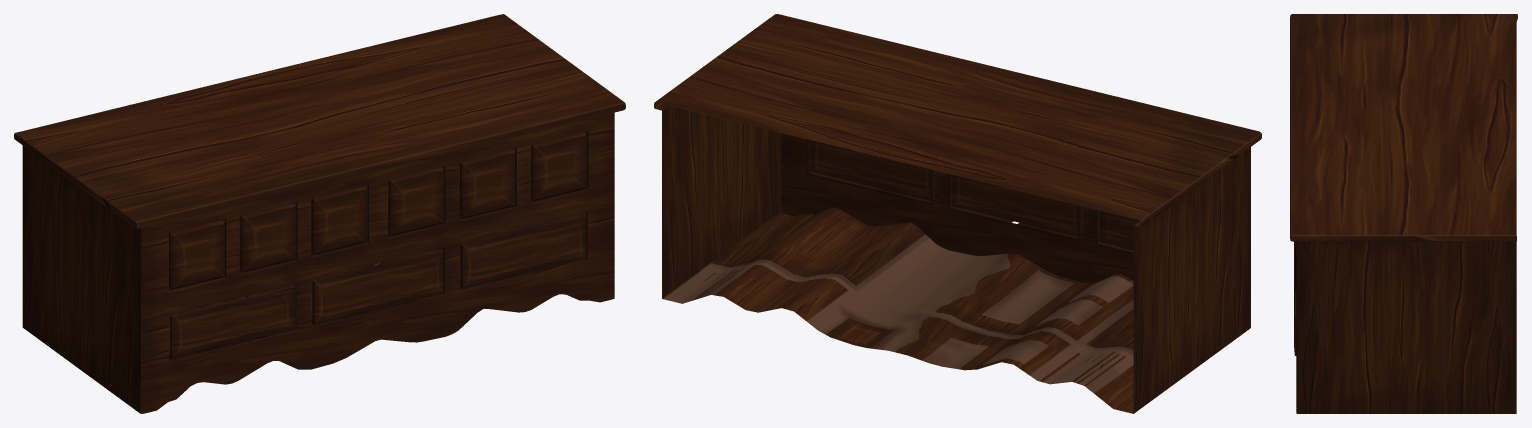
Rendered from Armario2.FBX.
3 views of the same model, side by side, from view 1: azimuth 30°, elevation 25°; view 2: azimuth 150°, elevation 25°; view 3: azimuth 270°, elevation 25° (orthographic). The views are drawn at different scales.
Visible parts, largest first — view 1: armario2; view 2: armario2; view 3: armario2.
Part boxes in pixels (x1,y1,x2,y2): armario2: (14,14,625,413); armario2: (654,14,1261,413); armario2: (1290,14,1517,413).
Size of the model in its own units: 72.36 by 27.71 by 31.38.
Materials: 1 (1 with a texture image).
